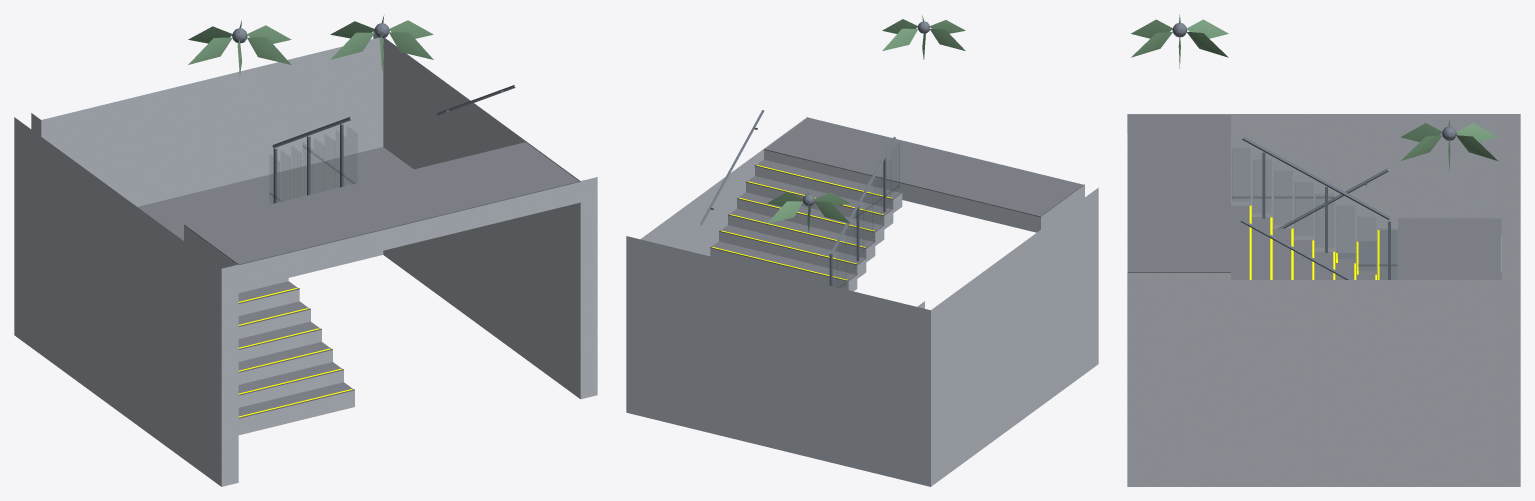
The model's file is v3_upper.glb.
3 renders of one model, left to right at view 1: azimuth 30°, elevation 25°; view 2: azimuth 150°, elevation 25°; view 3: azimuth 270°, elevation 25°, orthographic. The views are drawn at different scales.
Visible parts, largest first — view 1: Core_Walls, Top_Landing_Slate, Top_Landing, Flight1_Modules, Mid_Landing_Slate, Treads_Slate, Leaf_Canopy_Lamp, Nosing_Emergency, Guard_Posts, Guard_Glass_Centre; view 2: Core_Walls, Top_Landing_Slate, Flight2_Modules, Treads_Slate, Top_Landing, Leaf_Canopy_Lamp, Nosing_Emergency, Guard_Posts, Guard_Glass_Centre; view 3: Core_Walls, Top_Landing_Slate, Treads_Slate, Mid_Landing_Slate, Leaf_Canopy_Lamp, Nosing_Emergency, Handrail_Wall, Top_Landing, Guard_Glass_Centre, Guard_Cap_Rail, Guard_Posts.
Boxes of the visible parts, box(x1,y1,x2,y2) form: Core_Walls: box(14, 31, 597, 486); Top_Landing_Slate: box(184, 142, 580, 264); Top_Landing: box(184, 182, 580, 285); Flight1_Modules: box(238, 274, 354, 435); Mid_Landing_Slate: box(137, 147, 413, 240); Treads_Slate: box(238, 281, 354, 418); Leaf_Canopy_Lamp: box(188, 14, 433, 76); Nosing_Emergency: box(238, 288, 352, 417); Guard_Posts: box(273, 124, 343, 203); Guard_Glass_Centre: box(269, 137, 355, 201); Core_Walls: box(626, 117, 1098, 486); Top_Landing_Slate: box(764, 117, 1084, 217); Flight2_Modules: box(710, 166, 902, 291); Treads_Slate: box(710, 159, 901, 281); Top_Landing: box(764, 150, 1084, 232); Leaf_Canopy_Lamp: box(767, 15, 965, 232); Nosing_Emergency: box(712, 165, 891, 280); Guard_Posts: box(829, 157, 886, 286); Guard_Glass_Centre: box(836, 143, 899, 287); Core_Walls: box(1127, 114, 1520, 486); Top_Landing_Slate: box(1127, 115, 1230, 272); Treads_Slate: box(1231, 205, 1397, 279); Mid_Landing_Slate: box(1398, 218, 1501, 279); Leaf_Canopy_Lamp: box(1131, 14, 1498, 171); Nosing_Emergency: box(1249, 205, 1379, 279); Handrail_Wall: box(1240, 169, 1388, 279); Top_Landing: box(1127, 134, 1230, 279); Guard_Glass_Centre: box(1232, 148, 1396, 279); Guard_Cap_Rail: box(1242, 136, 1390, 219); Guard_Posts: box(1262, 152, 1390, 279).
Size of what is drawn, in the model's own units: 5.5 by 5.63 by 5.25.
Materials: 6 (3 with a texture image).
